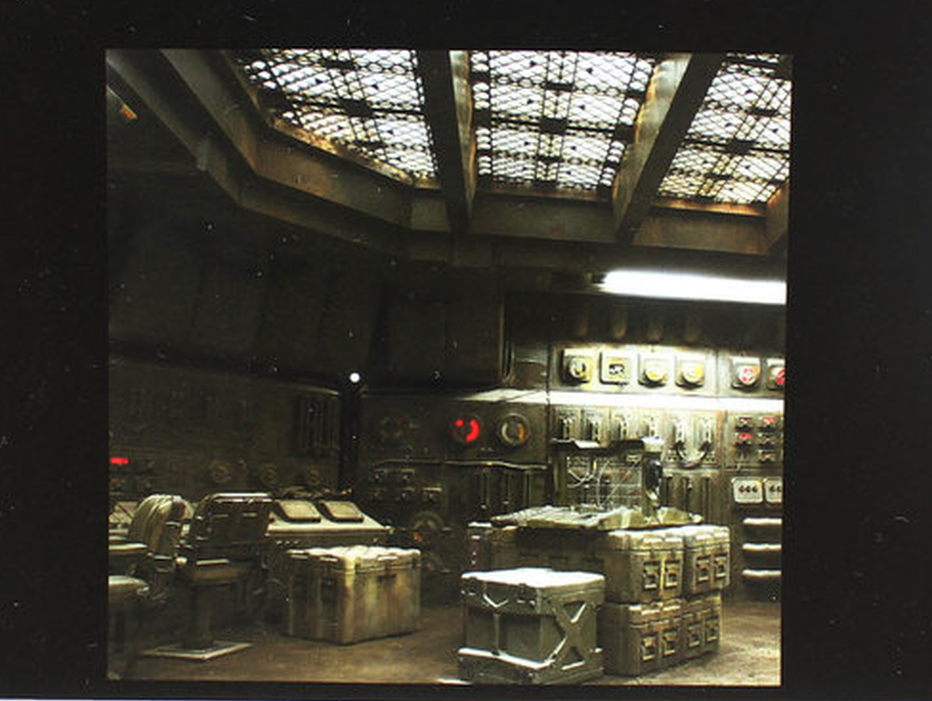skystone: (4, 2, 917, 701)
